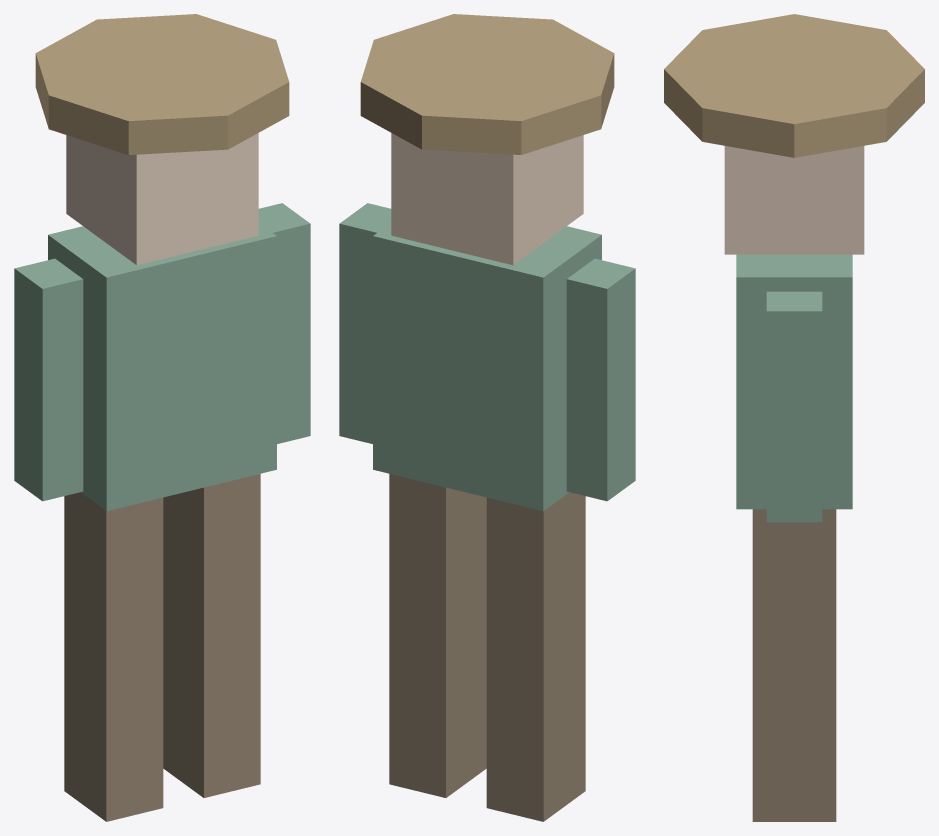
Rendered from citizen.glb.
3 views of the same model, side by side, from view 1: azimuth 30°, elevation 25°; view 2: azimuth 150°, elevation 25°; view 3: azimuth 270°, elevation 25° (orthographic).
Parts seen in each view (by area): view 1: Torso, Cube, Cube.001, Hat, Head, Cube.002, Cube.003; view 2: Torso, Cube, Cube.001, Hat, Head, Cube.002, Cube.003; view 3: Hat, Cube.001, Torso, Head, Cube.003.
Boxes of the visible parts, x1,y1,x2,y2 form: Torso: [48, 223, 276, 511]; Cube: [64, 492, 163, 821]; Cube.001: [163, 474, 260, 797]; Hat: [35, 14, 289, 154]; Head: [66, 133, 258, 265]; Cube.002: [14, 258, 83, 501]; Cube.003: [258, 203, 310, 443]; Torso: [373, 223, 601, 511]; Cube: [486, 492, 585, 821]; Cube.001: [389, 474, 486, 797]; Hat: [360, 14, 614, 154]; Head: [391, 133, 583, 265]; Cube.002: [566, 258, 635, 501]; Cube.003: [339, 203, 391, 443]; Hat: [664, 14, 924, 157]; Cube.001: [752, 509, 836, 821]; Torso: [736, 254, 852, 509]; Head: [724, 146, 864, 254]; Cube.003: [766, 291, 822, 522].
Bounding box in the file's own units: 0.66 × 1.69 × 0.56.
